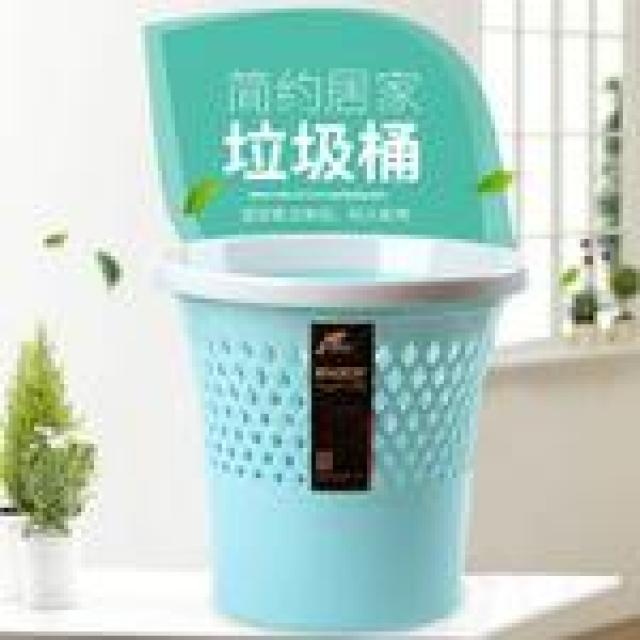dustbin: (153, 230, 534, 636)
